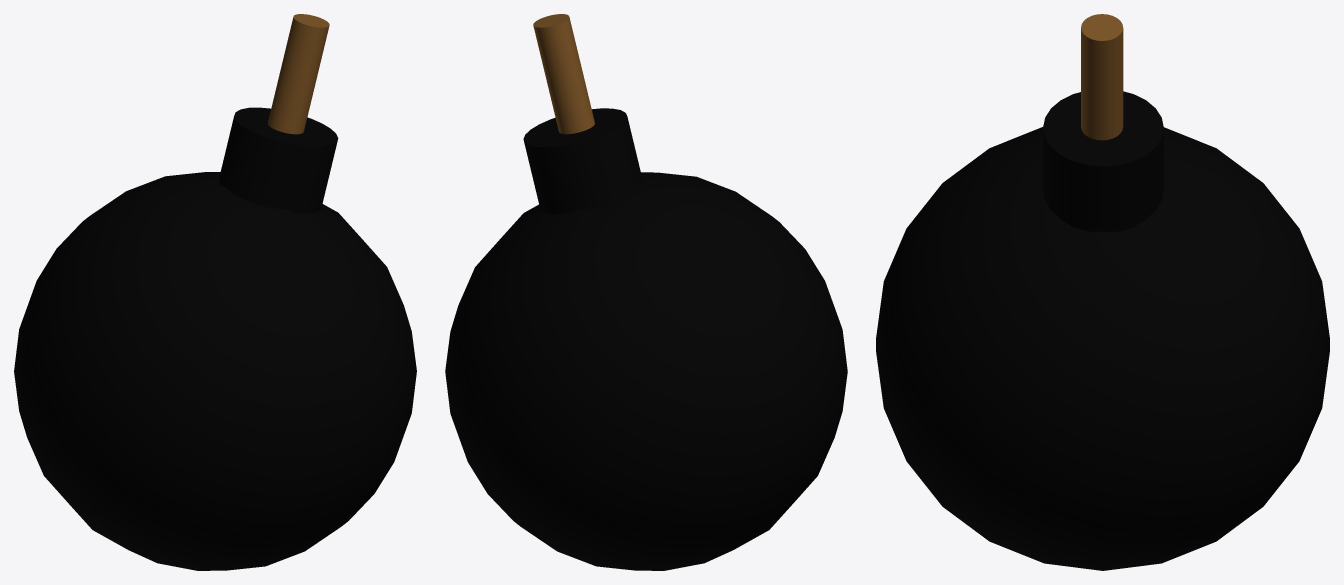
File: Bullet_Bomb.fbx
3 renders of one model, left to right at view 1: azimuth 30°, elevation 25°; view 2: azimuth 150°, elevation 25°; view 3: azimuth 270°, elevation 25°, orthographic. The views are drawn at different scales.
Parts seen in each view (by area): view 1: sphere, cylinder (×2); view 2: sphere, cylinder (×2); view 3: sphere, cylinder (×2).
Part boxes in pixels (bbox=[...]): sphere: bbox=[14, 172, 416, 570]; cylinder (×2): bbox=[218, 14, 338, 213]; sphere: bbox=[445, 172, 847, 570]; cylinder (×2): bbox=[523, 14, 642, 214]; sphere: bbox=[876, 127, 1329, 570]; cylinder (×2): bbox=[1043, 14, 1163, 231].
Bounding box in the file's own units: 10 × 14.12 × 10.
